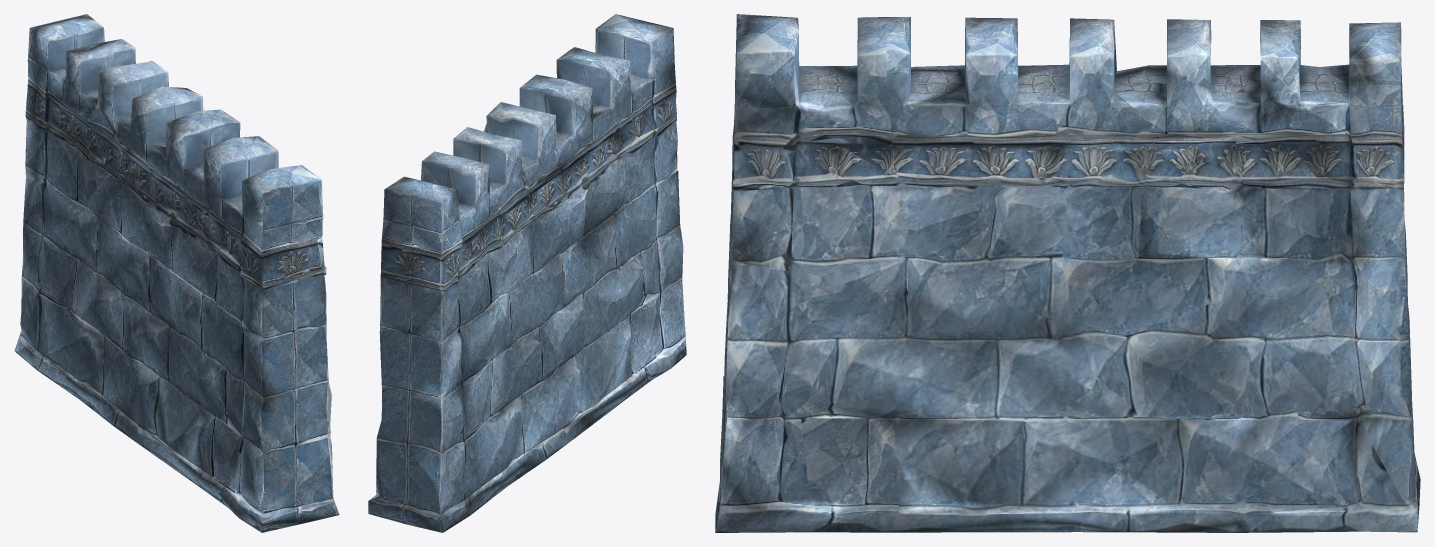
The model's file is castle_wall_diamond_ice.glb.
The picture shows the model from 3 angles, left to right: view 1: azimuth 30°, elevation 25°; view 2: azimuth 150°, elevation 25°; view 3: azimuth 270°, elevation 25°; orthographic projection. The views are drawn at different scales.
Visible parts, largest first — view 1: tripo_node_9be18747-6542-4d4e-8204-1c5a12660f5c; view 2: tripo_node_9be18747-6542-4d4e-8204-1c5a12660f5c; view 3: tripo_node_9be18747-6542-4d4e-8204-1c5a12660f5c.
Part boxes in pixels (left/top/right/bottom): tripo_node_9be18747-6542-4d4e-8204-1c5a12660f5c: left=14, top=14, right=339, bottom=532; tripo_node_9be18747-6542-4d4e-8204-1c5a12660f5c: left=368, top=14, right=686, bottom=532; tripo_node_9be18747-6542-4d4e-8204-1c5a12660f5c: left=715, top=14, right=1420, bottom=532.
Bounding box in the file's own units: 0.1877 × 0.7395 × 0.9783.
1 material, 1 textured.
